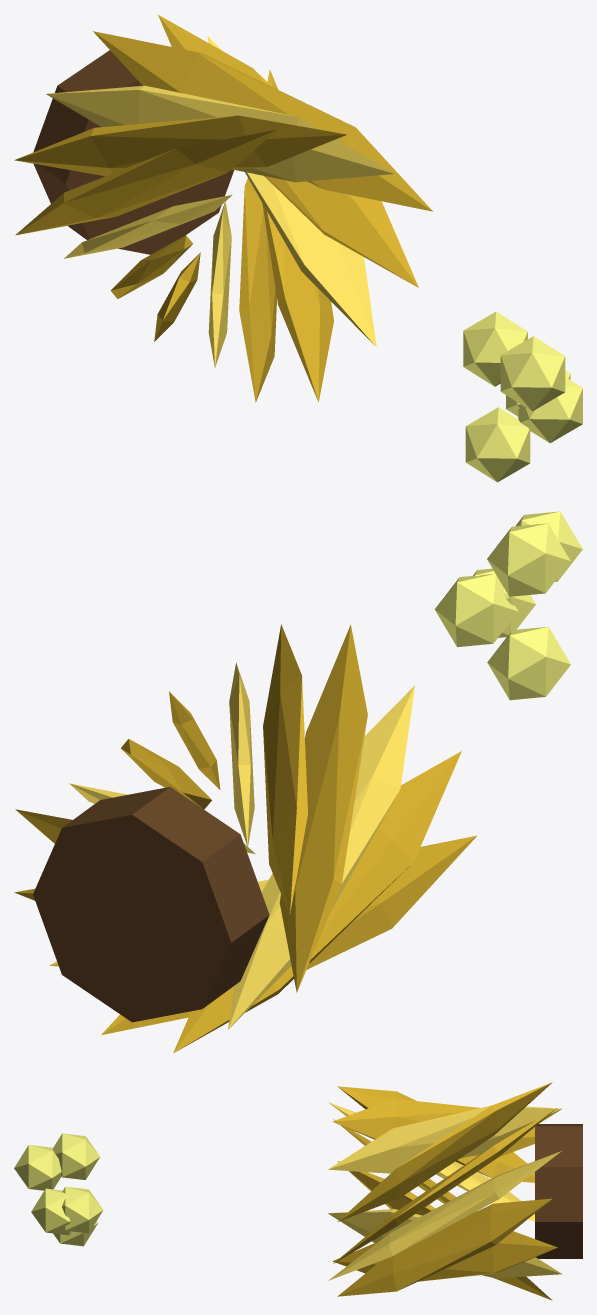
File: 4_mature.obj
The picture shows the model from 3 angles, top to bottom: view 1: azimuth 30°, elevation 25°; view 2: azimuth 150°, elevation 25°; view 3: azimuth 270°, elevation 25°; orthographic projection. The views are drawn at different scales.
Visible parts, largest first — view 1: torstol_4_mature; view 2: torstol_4_mature; view 3: torstol_4_mature.
Part boxes in pixels (left/top/right/bottom): torstol_4_mature: left=14, top=15, right=582, bottom=482; torstol_4_mature: left=14, top=511, right=582, bottom=1053; torstol_4_mature: left=14, top=1082, right=582, bottom=1300.
Bounding box in the file's own units: 0.1808 × 0.1808 × 0.4745.
